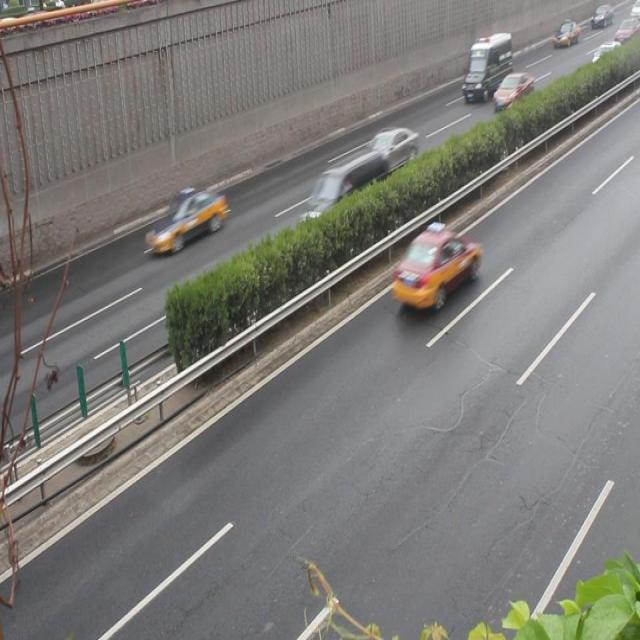car: (391, 226, 482, 310), (144, 186, 226, 256), (354, 126, 421, 182), (491, 72, 534, 112)
truck: (294, 149, 387, 235), (460, 33, 512, 102)
